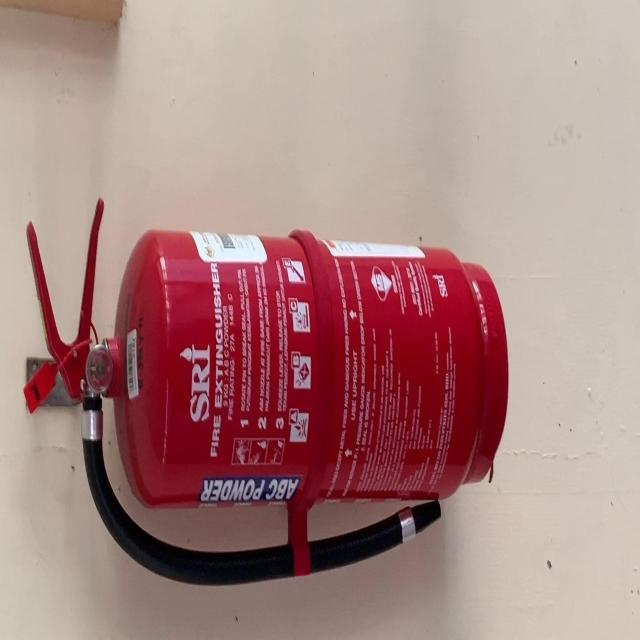fire_extinguisher: (19, 192, 514, 592)
